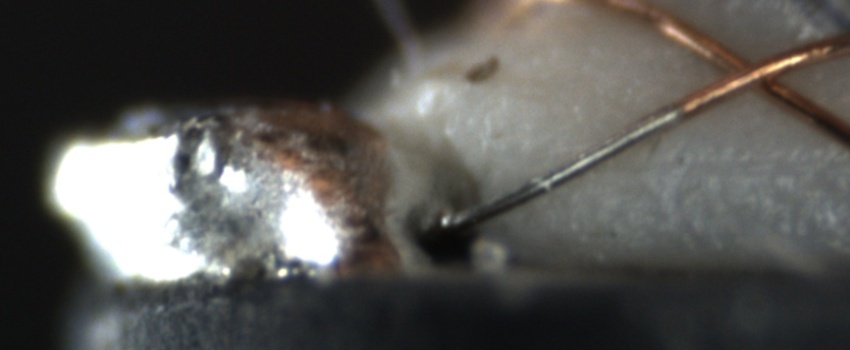CL: (702, 40, 808, 105)
DL: (617, 134, 850, 198)
TS: (442, 103, 684, 232)
